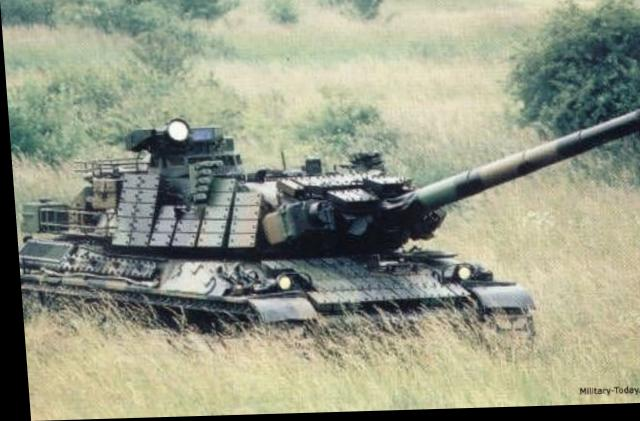tank: (11, 103, 552, 372)
